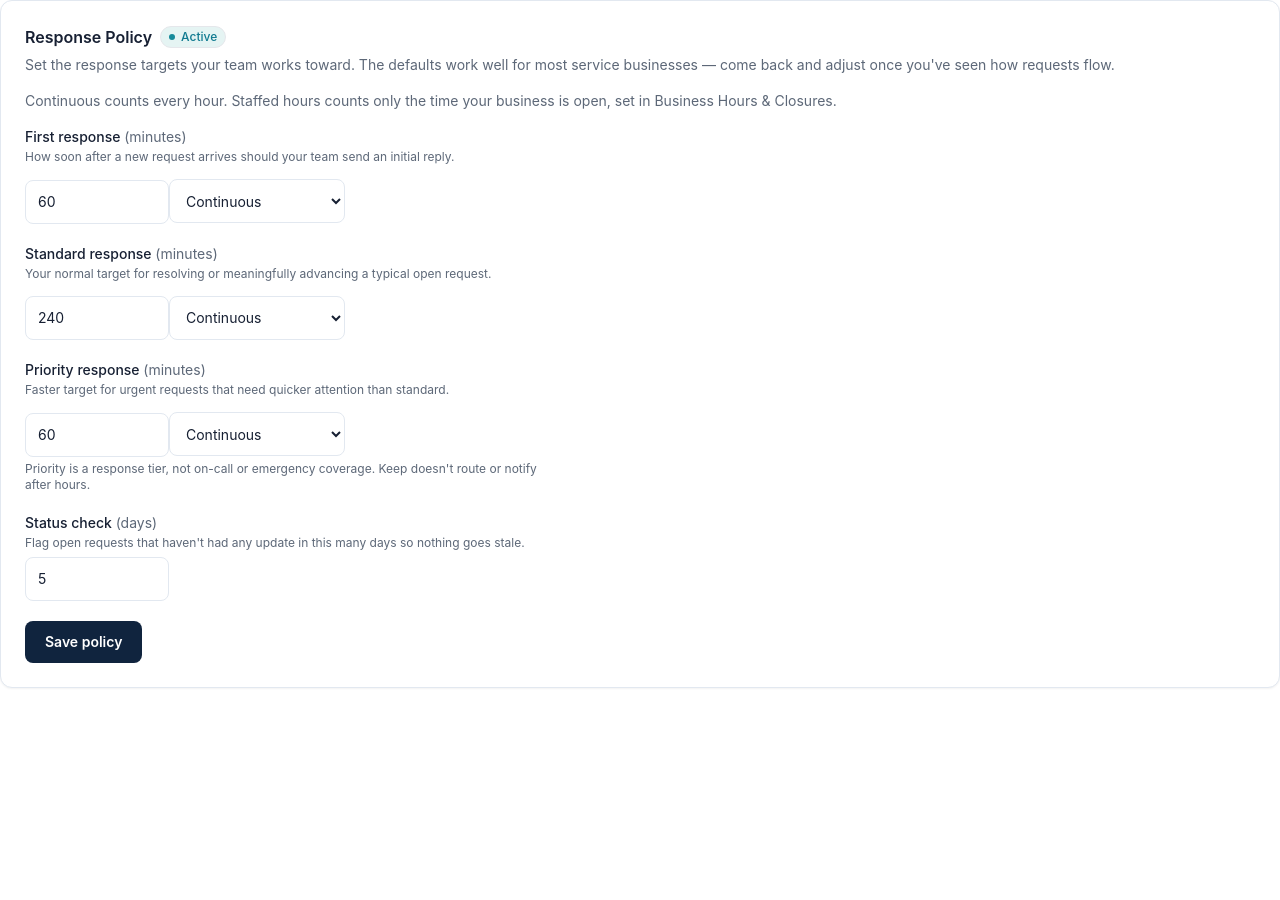
PolicySection timing bases (GAP-100 6c) › maps 422 KeepResponsePolicy.StaffedHoursTargetUnreachable to friendly copy, never the raw API message
Expected: the button "Save policy" is shown, [25,620,142,662]
Select "Staffed hours" in the dropdown named "First response timing": coordinates (257, 201) [169,179,345,223]
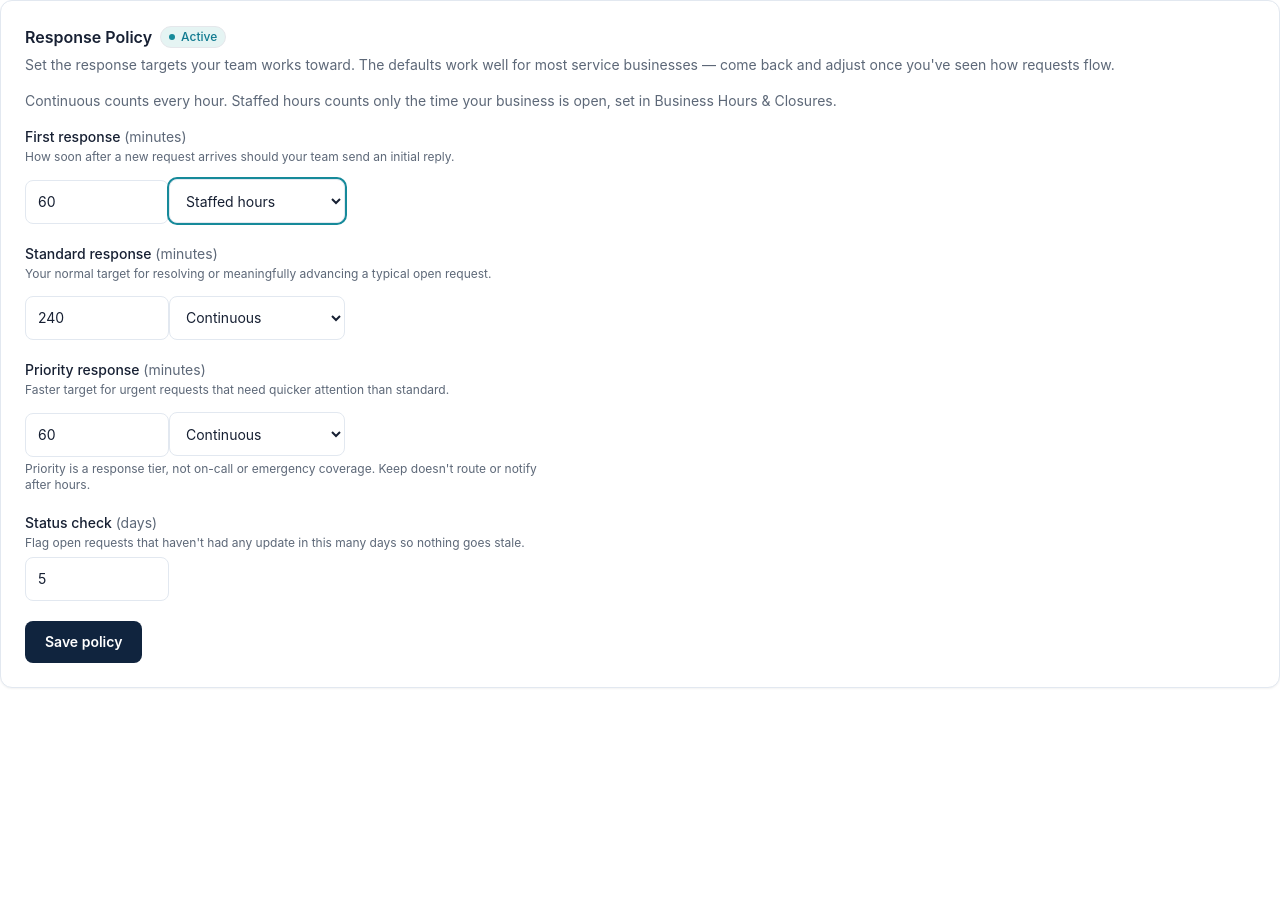
Click the button "Save policy": coordinates (84, 642) [25,620,142,662]
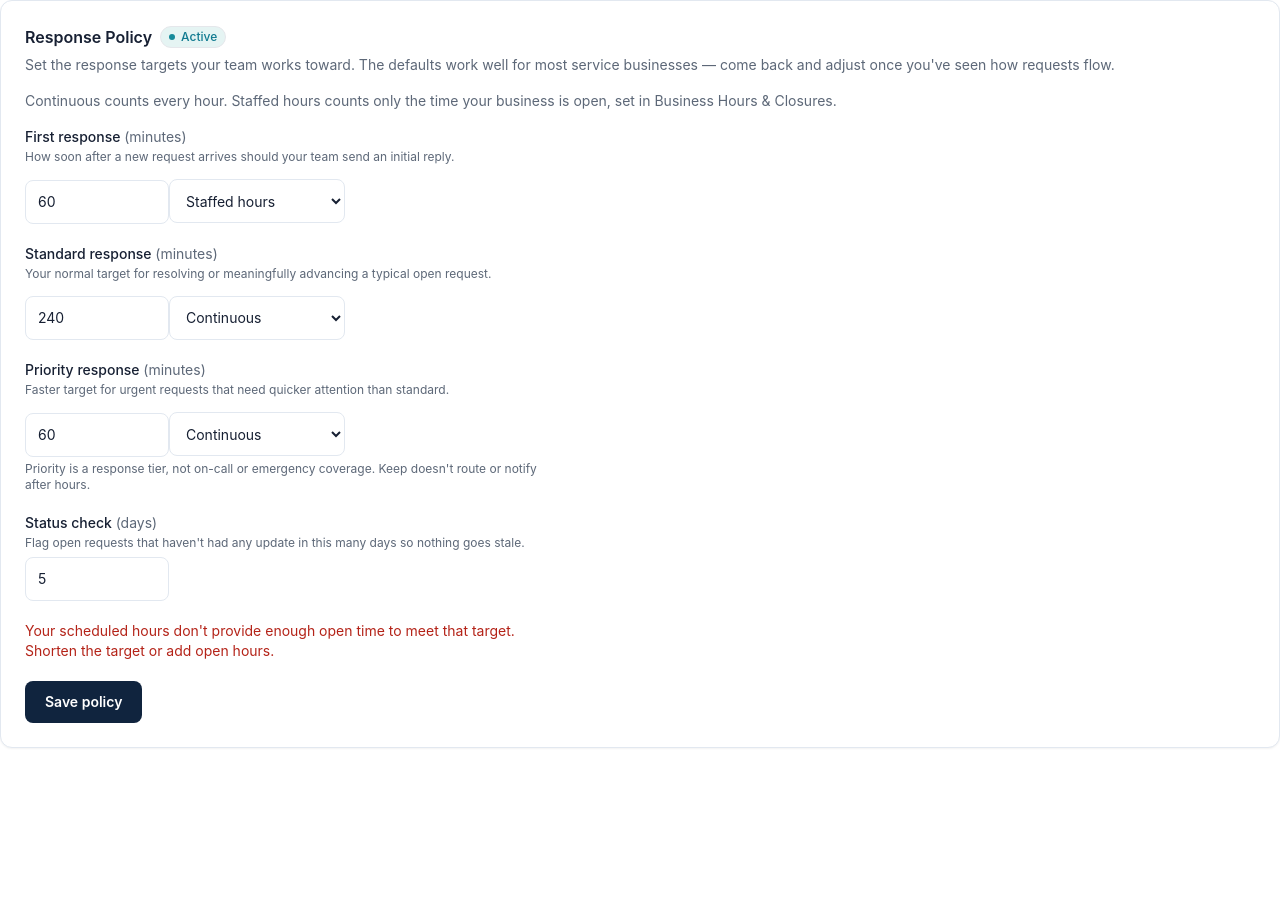
Result: the text "Your scheduled hours don't provide enough open time to meet that target. Shorten the target or add open hours." is shown at [25,622,515,658]
